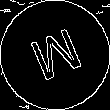M_SE: (24, 23, 86, 87)
